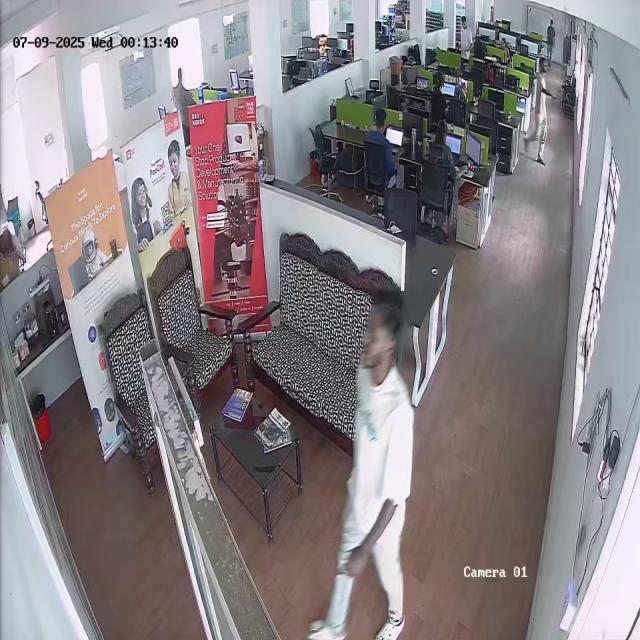person: (295, 283, 432, 632), (523, 58, 558, 164), (422, 119, 460, 200), (364, 108, 402, 188), (454, 15, 474, 66)
